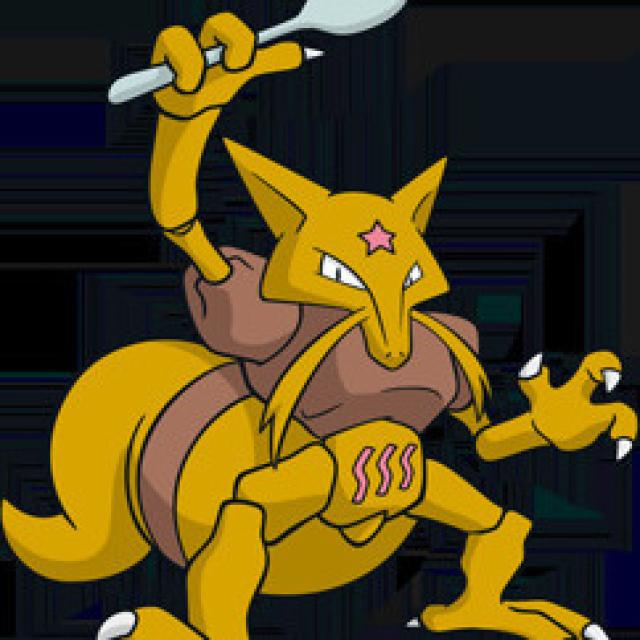Kadabra: (104, 20, 544, 640)
